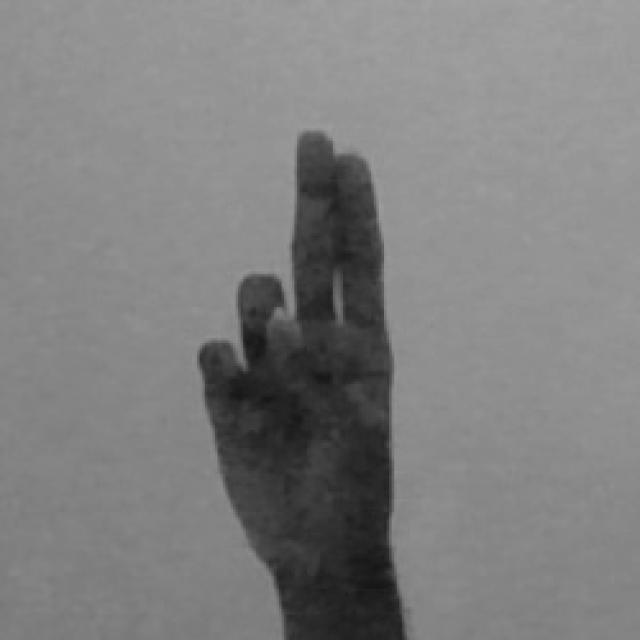U: (193, 124, 414, 640)
